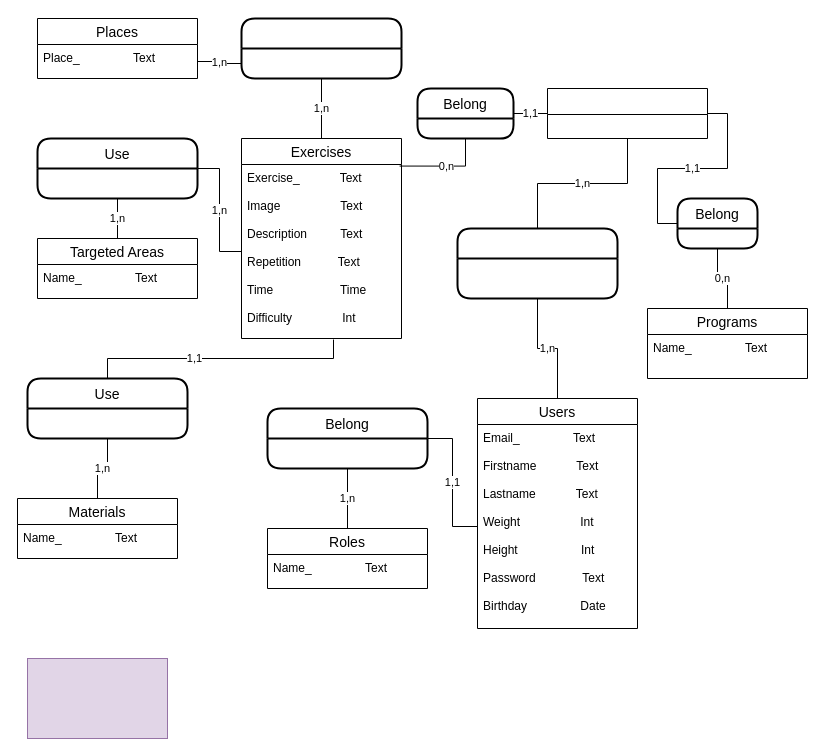
Some shapes in this 825 by 756 pixel diagram are drawn without their labels. Here are the shapes that lost their labels. From the top down, the centre of each, then its label:
the point at 321,48: Practice
the point at 627,113: Sequencies
the point at 537,263: Exercise
the point at 97,698: Title : MCD KeepItFit Author : Dmitri Meili Date : 16.05.2022 Version : 1.8
